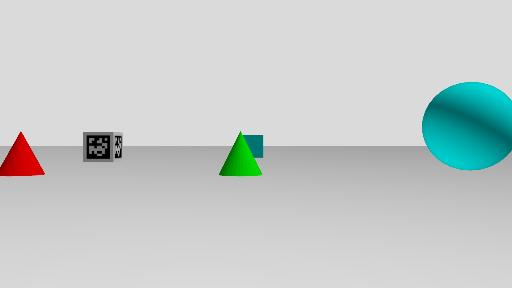green_cone: (218, 131, 262, 177)
red_cone: (0, 131, 46, 177)
